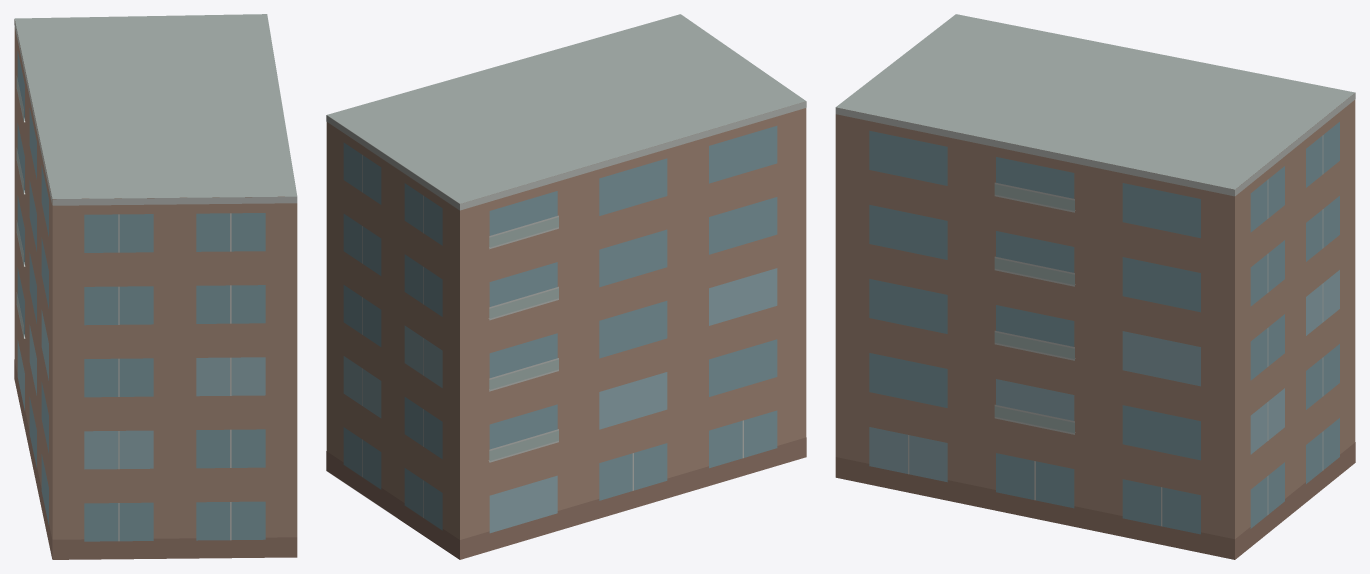
File: survey-upis-32946449.glb
The picture shows the model from 3 angles, left to right: view 1: azimuth 30°, elevation 25°; view 2: azimuth 150°, elevation 25°; view 3: azimuth 270°, elevation 25°; orthographic projection. The views are drawn at different scales.
Visible parts, largest first — view 1: survey-upis-32946449.tmp; view 2: survey-upis-32946449.tmp; view 3: survey-upis-32946449.tmp.
Boxes of the visible parts, x1,y1,x2,y2 form: survey-upis-32946449.tmp: [14, 14, 297, 559]; survey-upis-32946449.tmp: [326, 14, 806, 559]; survey-upis-32946449.tmp: [835, 14, 1355, 559].
Size of the model in its own units: 13.44 by 13.2 by 16.8.
